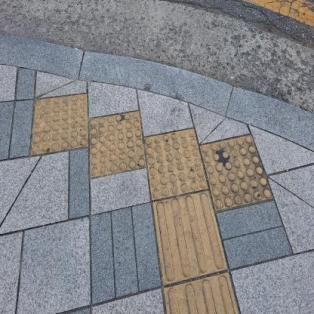Podoctatil: (24, 86, 282, 313)
